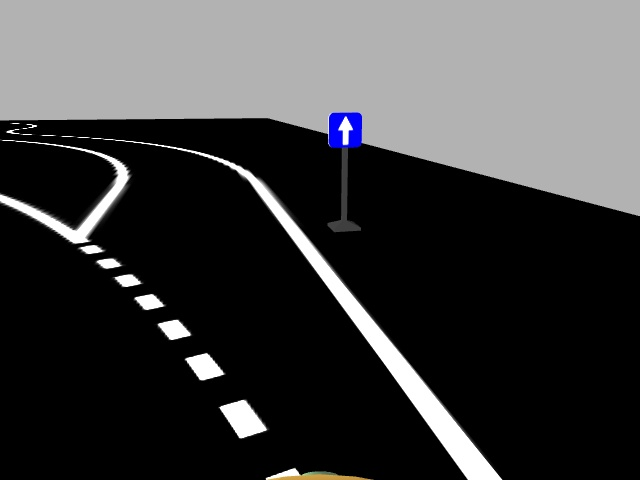OneWay: (326, 111, 363, 148)
